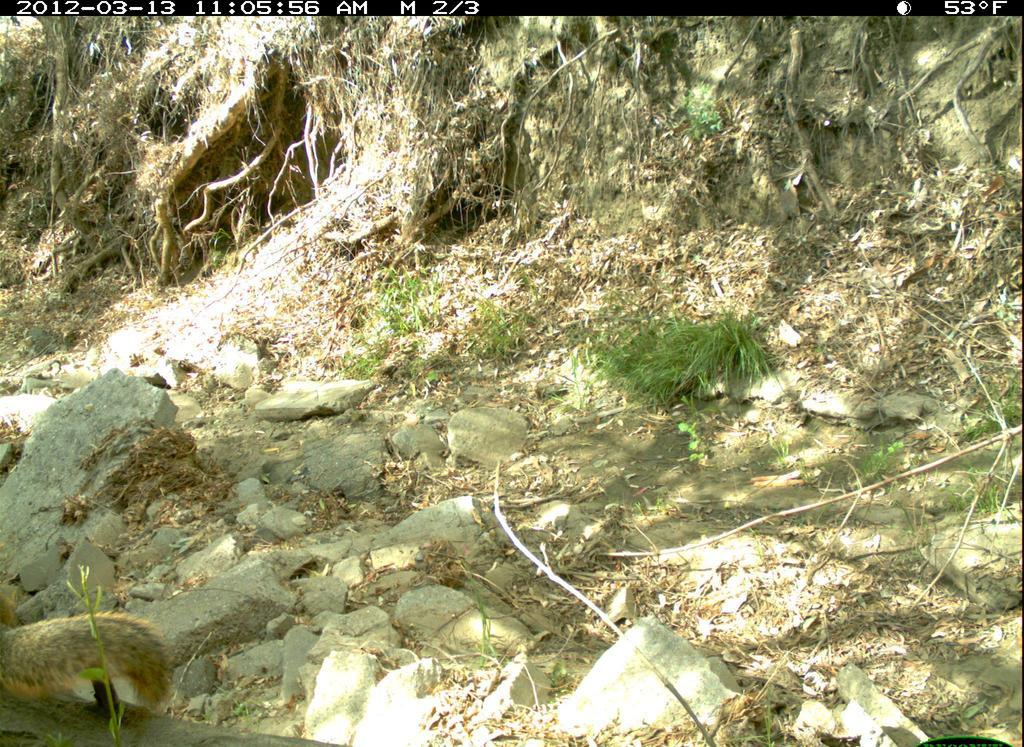squirrel: (1, 579, 182, 713)
